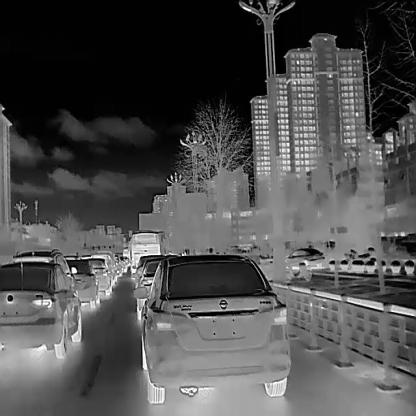bus: (129, 229, 162, 273)
car: (131, 249, 291, 404), (0, 255, 83, 358), (59, 254, 100, 308), (82, 254, 112, 295), (283, 246, 325, 268)
